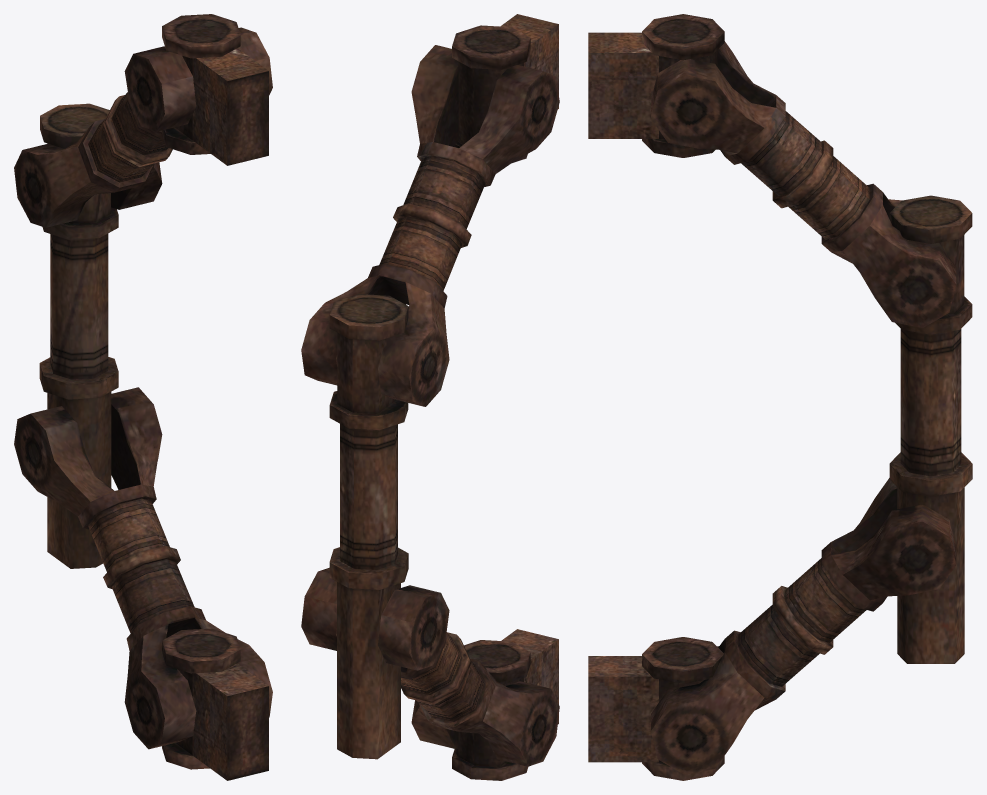
Rendered from girder_rusty_scaffold_side.dae.
The picture shows the model from 3 angles, left to right: view 1: azimuth 30°, elevation 25°; view 2: azimuth 150°, elevation 25°; view 3: azimuth 270°, elevation 25°; orthographic projection.
Parts seen in each view (by area): view 1: girder_scaffold_side; view 2: girder_scaffold_side; view 3: girder_scaffold_side.
Boxes of the visible parts, box(x1,y1,x2,y2) form: girder_scaffold_side: box(14, 14, 272, 780); girder_scaffold_side: box(301, 14, 559, 780); girder_scaffold_side: box(588, 14, 972, 780).
Size of the model in its own units: 0.2248 by 1.43 by 0.6817.
